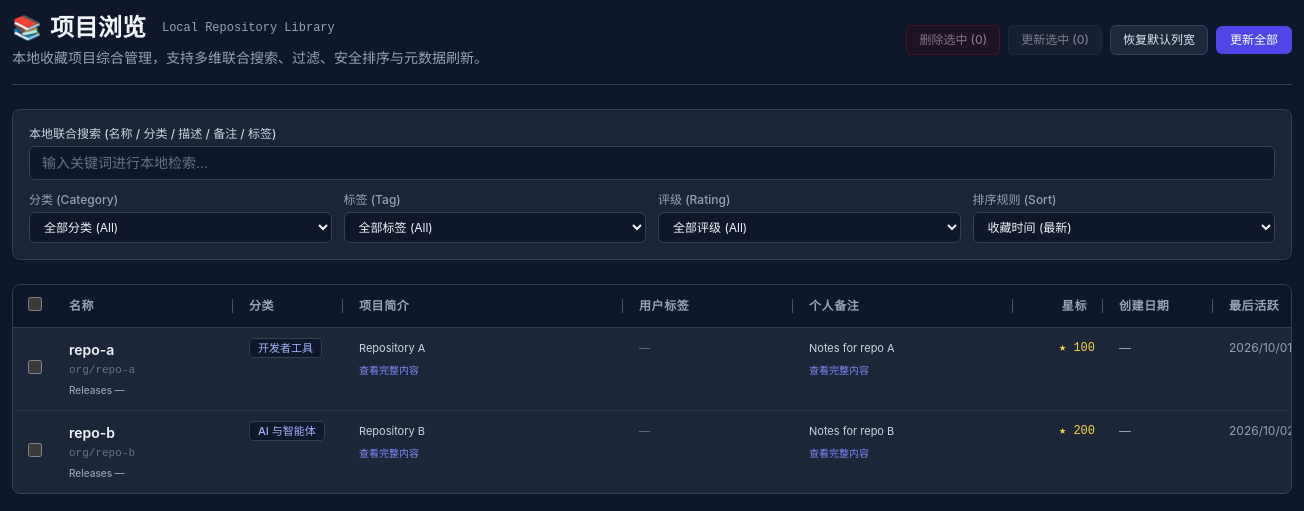
it: S4 Local Favorites Search — Frontend Lifecycle & Stale Guard › AC103: late-arriving query A results must not overwrite faster query B results
Expected: the row with test id "library-row-1" is shown, [13, 328, 1291, 410]
Expected: the row with test id "library-row-2" is shown, [13, 410, 1291, 493]
// Trigger Query A (slow)
In the field with test id "library-search-input": (652,163) [29, 146, 1275, 180], type "slow_query"
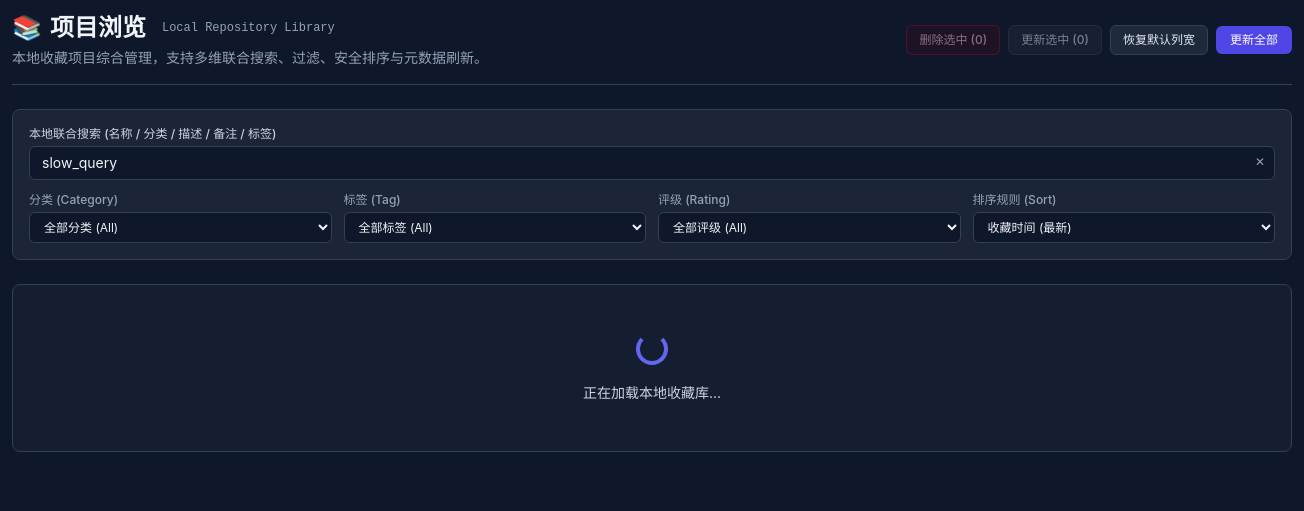
// Trigger Query B (fast) before Query A resolves
Replace the text in the field with test id "library-search-input" with "fast_query": (652,163) [29, 146, 1275, 180]
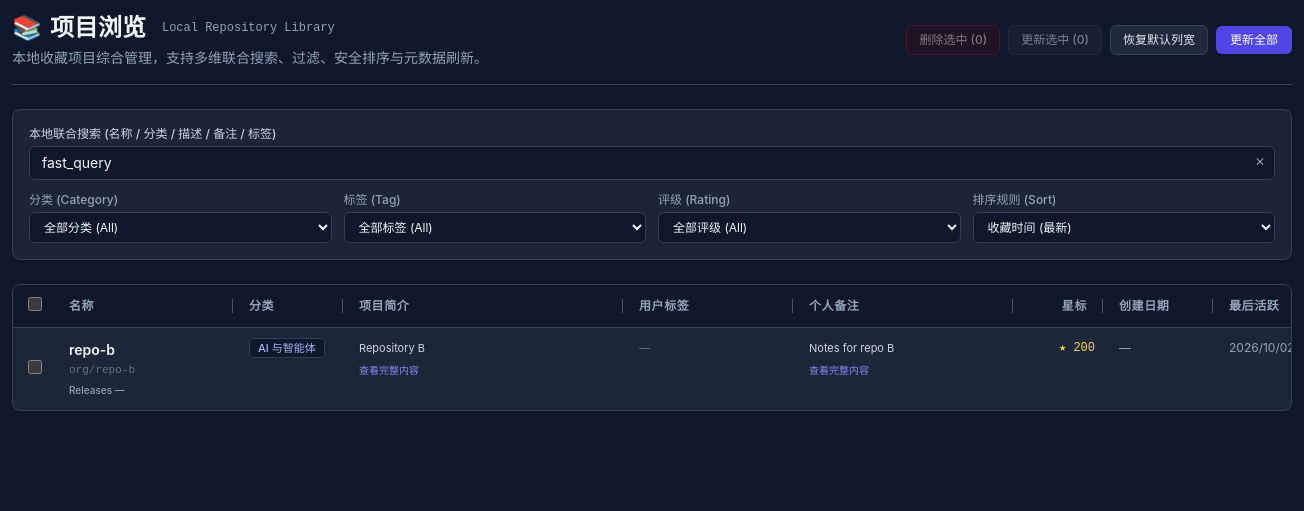
Now the row with test id "library-row-2" is shown, box [13, 328, 1291, 410]
